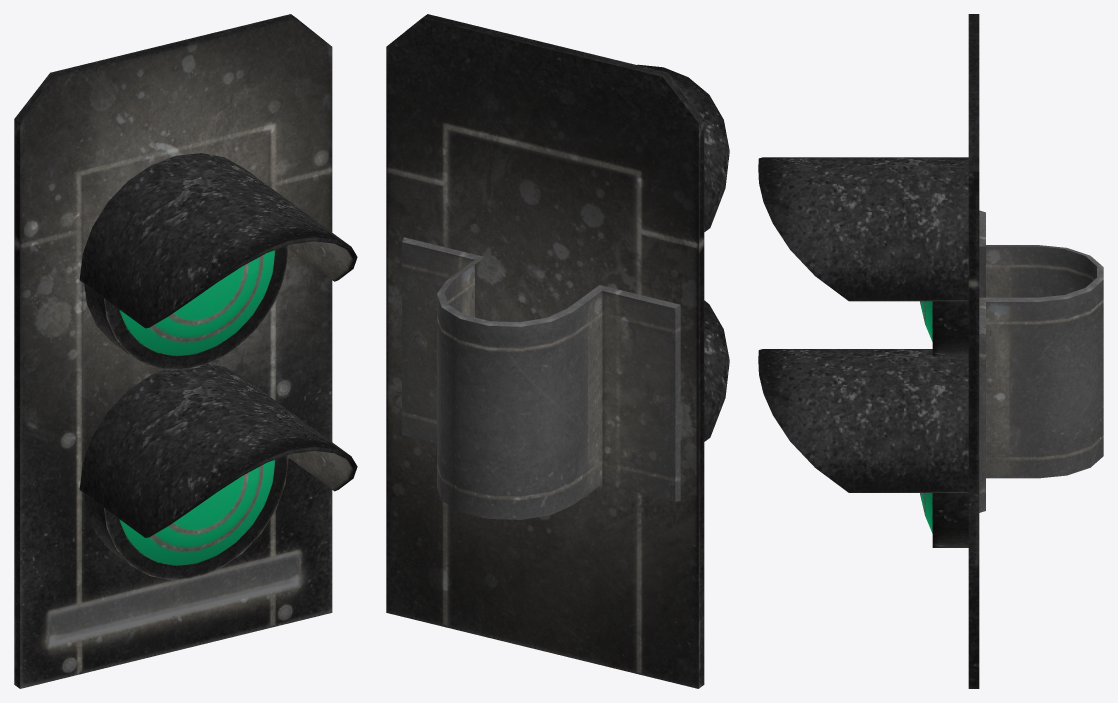
The model's file is SM_SignalLight.FBX.
3 renders of one model, left to right at view 1: azimuth 30°, elevation 25°; view 2: azimuth 150°, elevation 25°; view 3: azimuth 270°, elevation 25°, orthographic. The views are drawn at different scales.
Visible parts, largest first — view 1: SM_SignalLight; view 2: SM_SignalLight; view 3: SM_SignalLight.
Boxes of the visible parts, bbox=[...] form: SM_SignalLight: bbox=[14, 14, 357, 688]; SM_SignalLight: bbox=[386, 14, 729, 688]; SM_SignalLight: bbox=[758, 14, 1103, 688].
Size of the model in its own units: 50 by 52.35 by 92.29.
